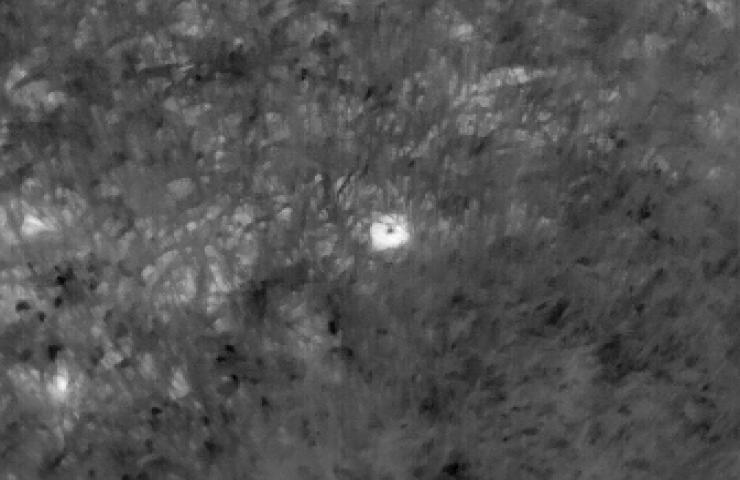landmines: (366, 208, 417, 254)
